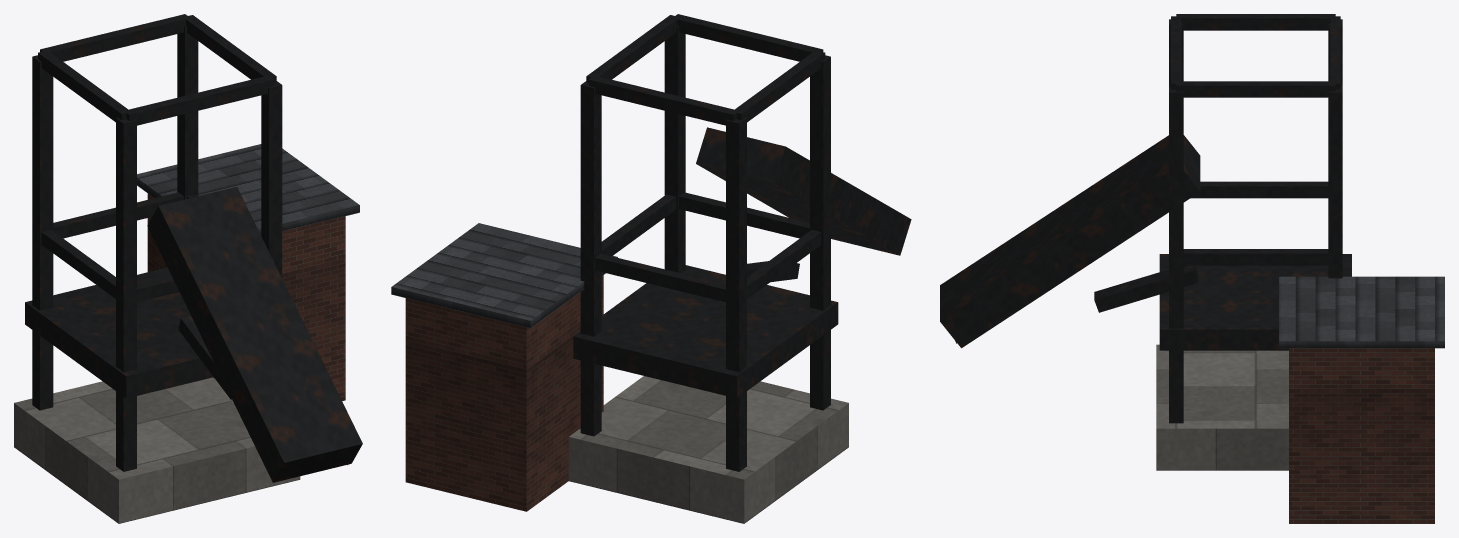
Rendered from A_coalhoist.glb.
3 renders of one model, left to right at view 1: azimuth 30°, elevation 25°; view 2: azimuth 150°, elevation 25°; view 3: azimuth 270°, elevation 25°, orthographic. The views are drawn at different scales.
Visible parts, largest first — view 1: A_coalhoist; view 2: A_coalhoist; view 3: A_coalhoist.
Part boxes in pixels (x1,y1,x2,y2): A_coalhoist: (14,14,362,523); A_coalhoist: (391,14,911,523); A_coalhoist: (940,14,1444,523).
Bounding box in the file's own units: 5.05 × 6.3 × 7.61.
Materials: 4 (4 with a texture image).
